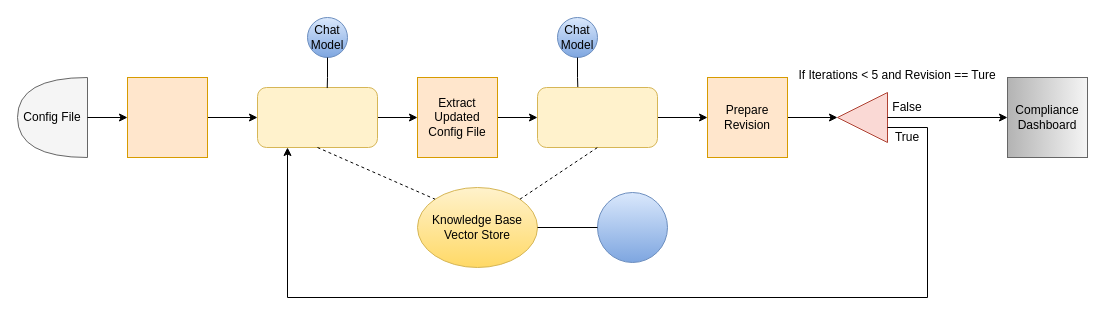
Some shapes in this 1105 by 335 pixel diagram are drawn without their labels. Each missing label, with the centre of its shape:
Compliance Assessment Agent: pixel 317 117
Compute Embeddings: pixel 632 227
Pre-process FIle: pixel 167 117
Reflection Agent: pixel 597 117
